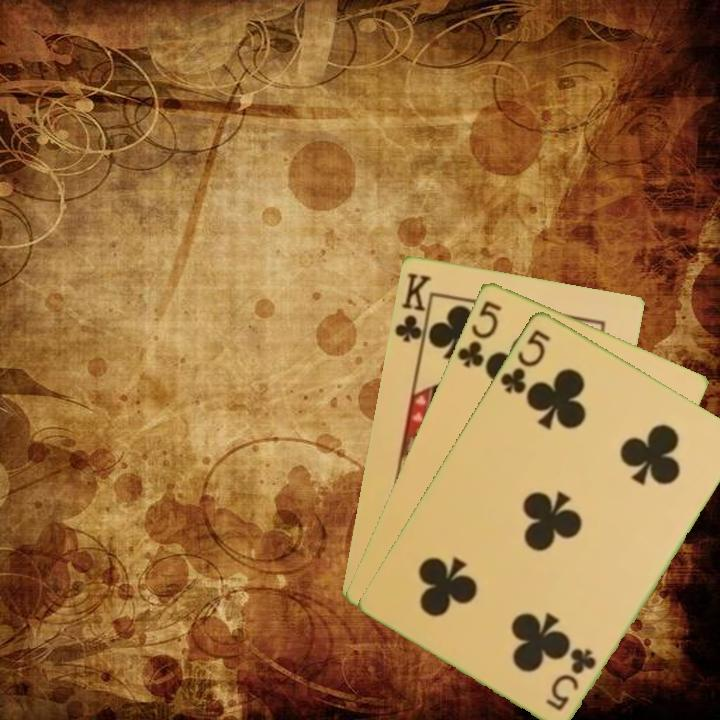5c: (496, 325, 554, 397), (542, 644, 599, 713), (454, 296, 505, 370)
Kc: (391, 269, 434, 351)
